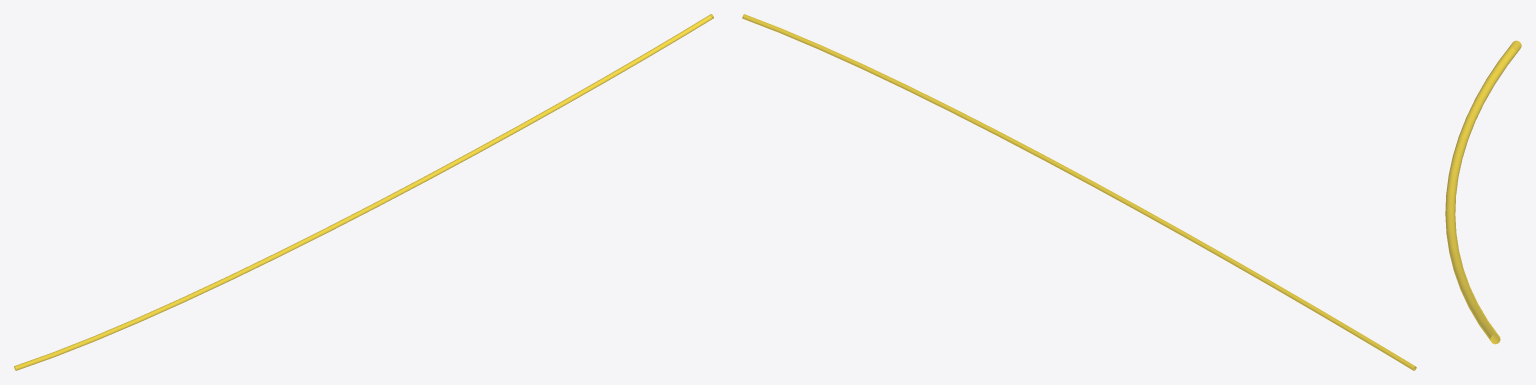
Rendered from Event_100608114_track_68.fbx.
The picture shows the model from 3 angles, left to right: view 1: azimuth 30°, elevation 25°; view 2: azimuth 150°, elevation 25°; view 3: azimuth 270°, elevation 25°; orthographic projection. The views are drawn at different scales.
Visible parts, largest first — view 1: Model; view 2: Model; view 3: Model.
Boxes of the visible parts, bbox=[...] form: Model: bbox=[14, 14, 713, 370]; Model: bbox=[742, 14, 1416, 370]; Model: bbox=[1445, 40, 1521, 344].
Size of the model in its own units: 6.24 by 1.65 by 0.3036.
